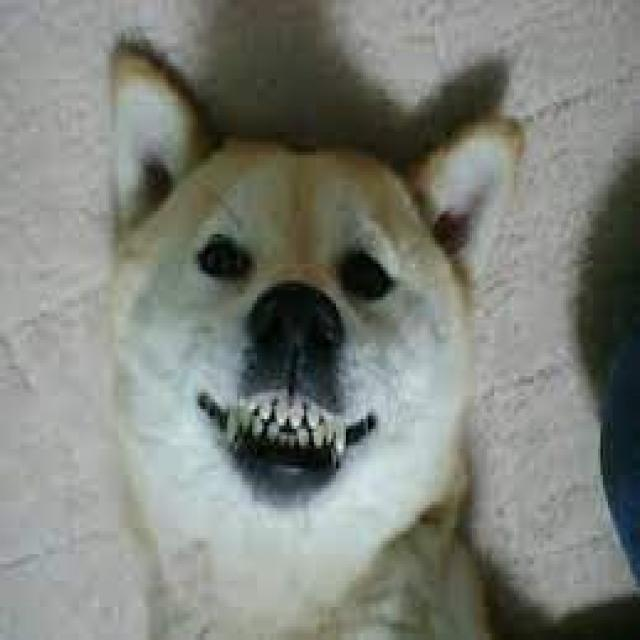dog: (93, 26, 539, 640)
